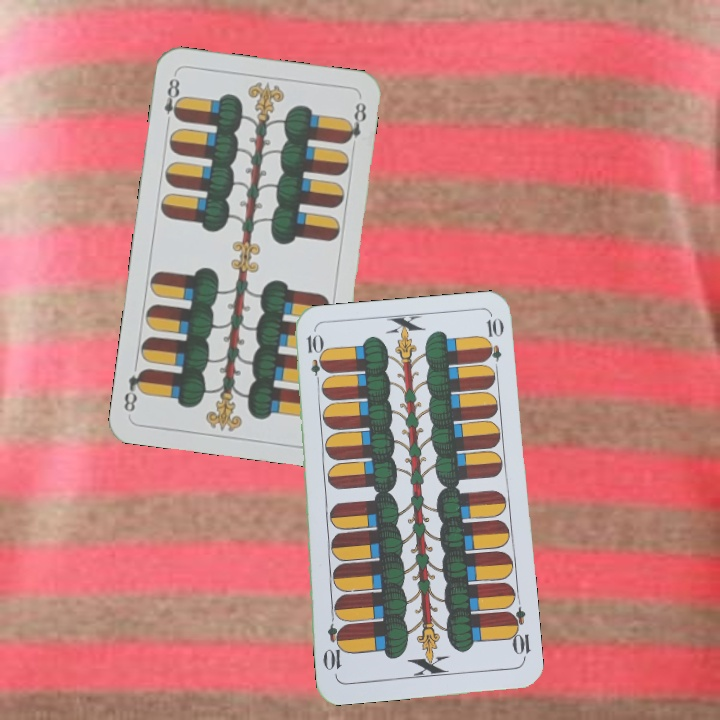E10: (503, 604, 533, 663), (303, 330, 325, 389)
E8: (160, 74, 185, 130)
